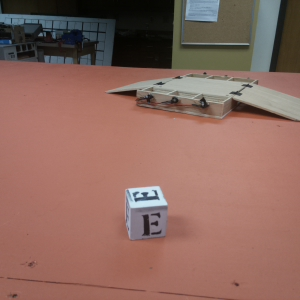blockE: (123, 186, 168, 245)
side: (137, 87, 229, 119)
slope: (234, 84, 299, 122), (105, 73, 169, 99)
